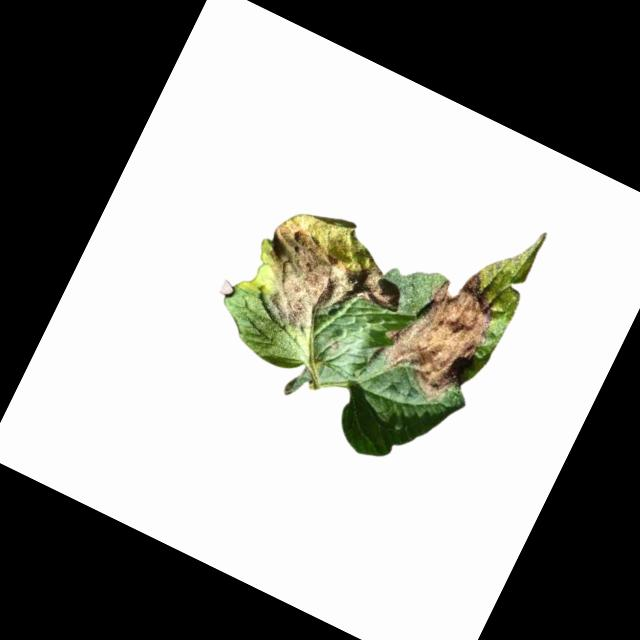Late_blight: (234, 188, 422, 364), (367, 249, 507, 409)
